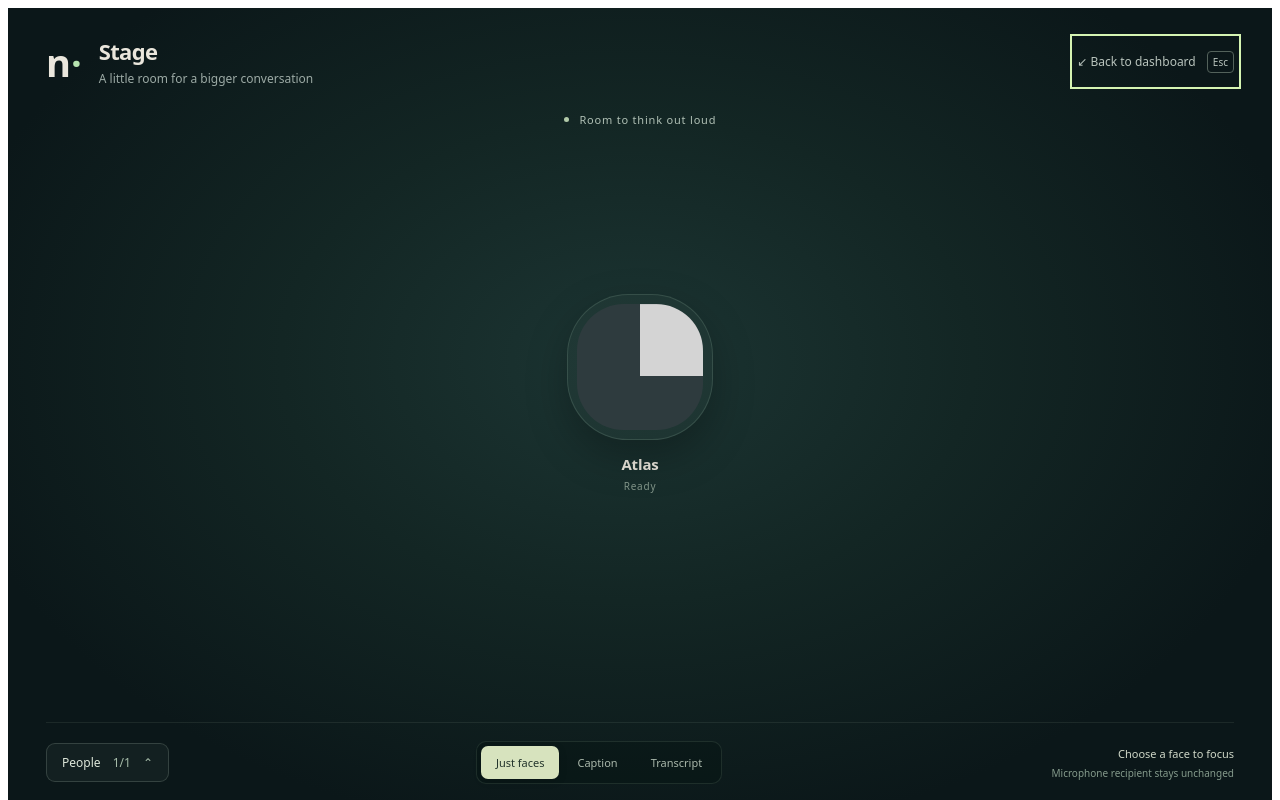
Test: restores all hidden people and closes the picker before leaving with Escape
Click the button "People 1/1 ⌃" at (108, 762), box [46,743,169,782]
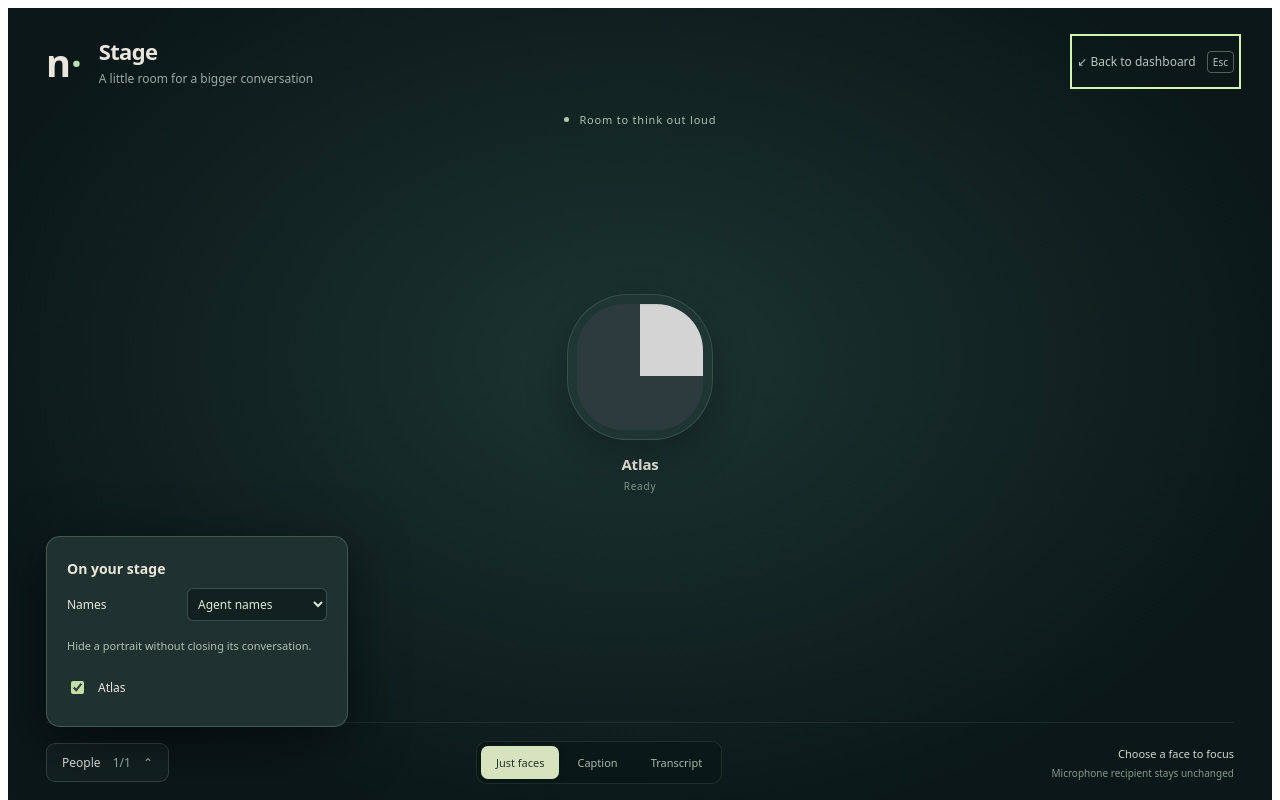
Click the checkbox labelled "Atlas" at (78, 688), box [71,681,84,694]
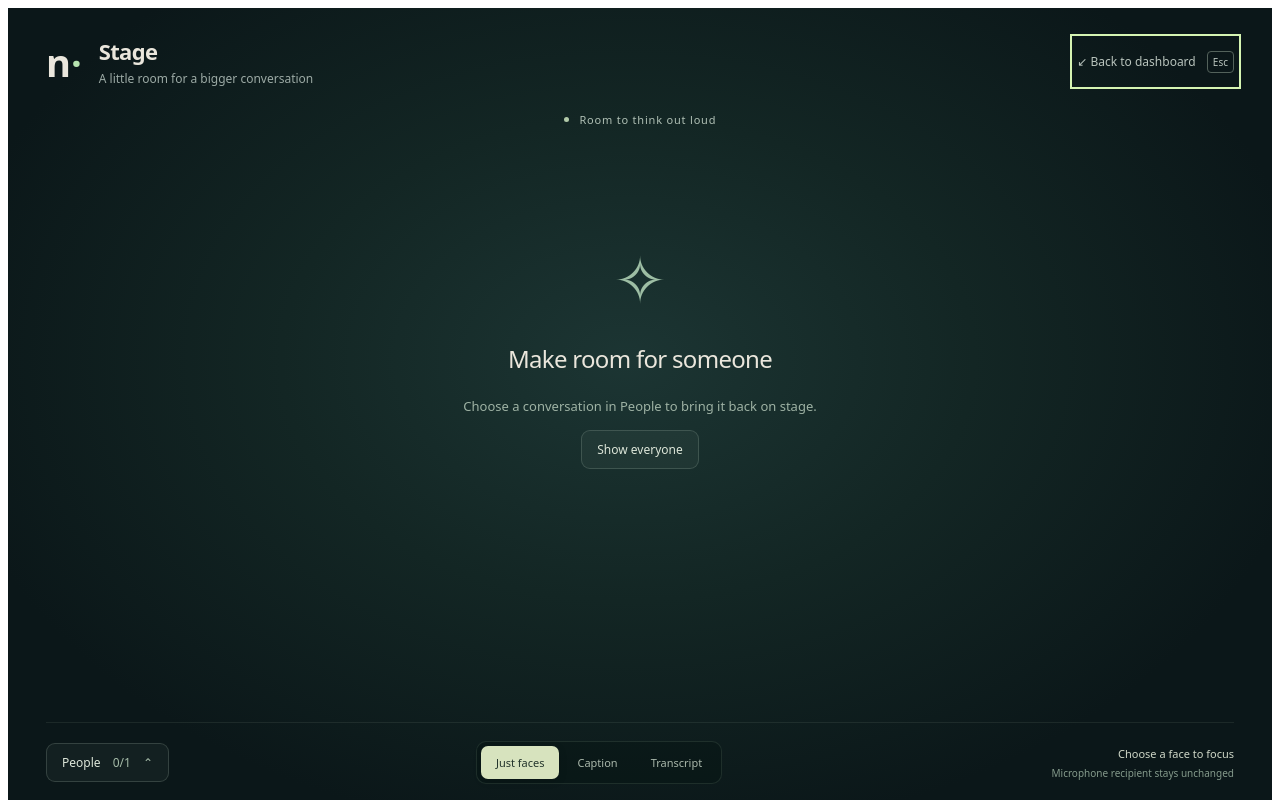
Check: the text "Make room for someone" is shown, box [508,342,772,375]
Click the button "Show everyone" at (640, 449), box [581,430,699,469]
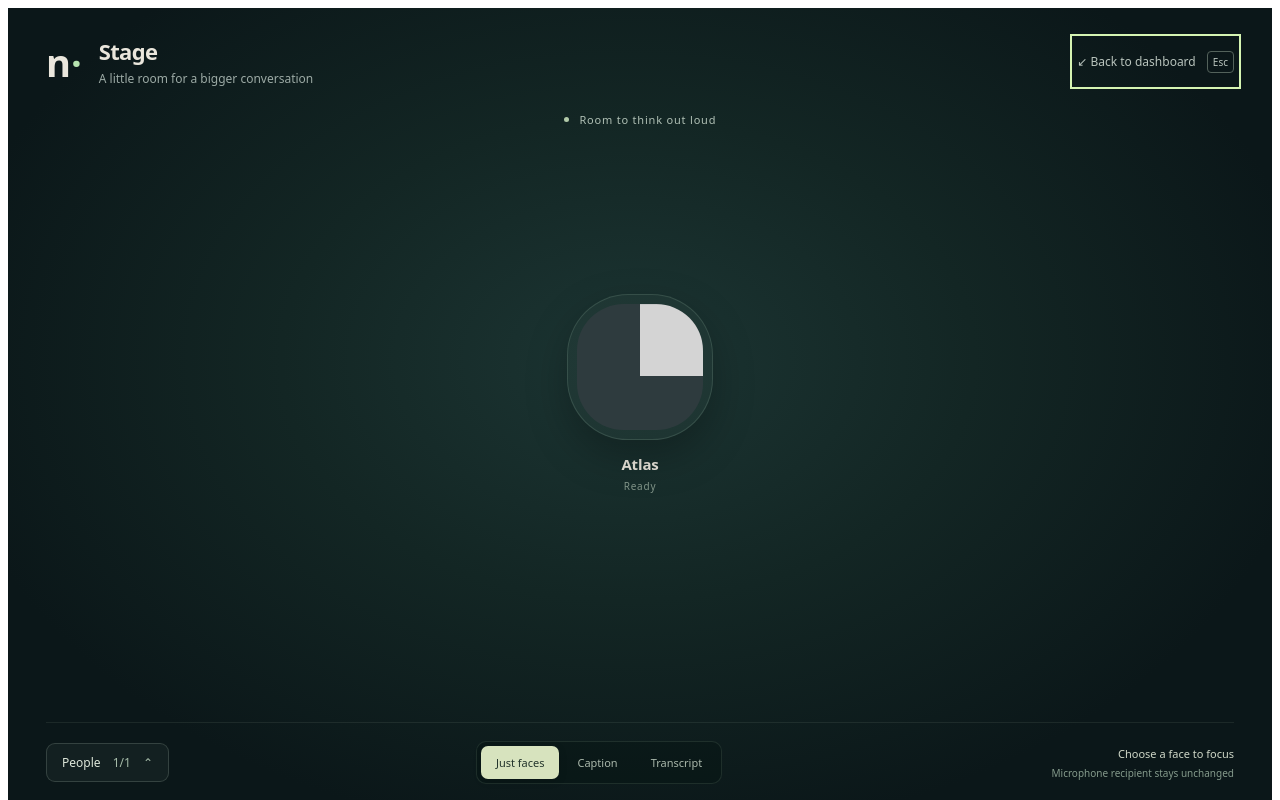
Check: the element showing "Atlas Ready" is shown, box [545,294,735,494]
